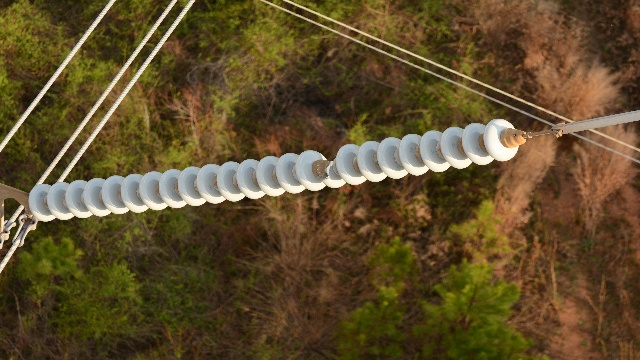broken_local: (321, 152, 337, 185)
insulator_unspecified: (28, 117, 520, 223)
